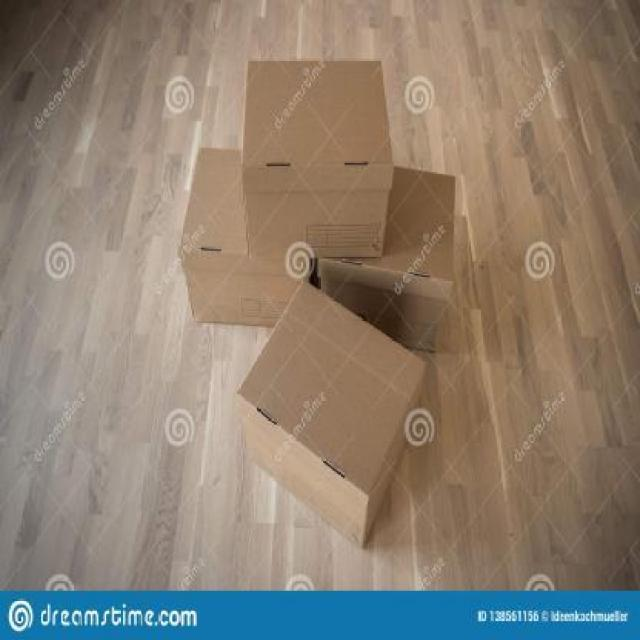box: (234, 278, 430, 546), (314, 160, 460, 356), (243, 54, 382, 258), (180, 140, 317, 324)
